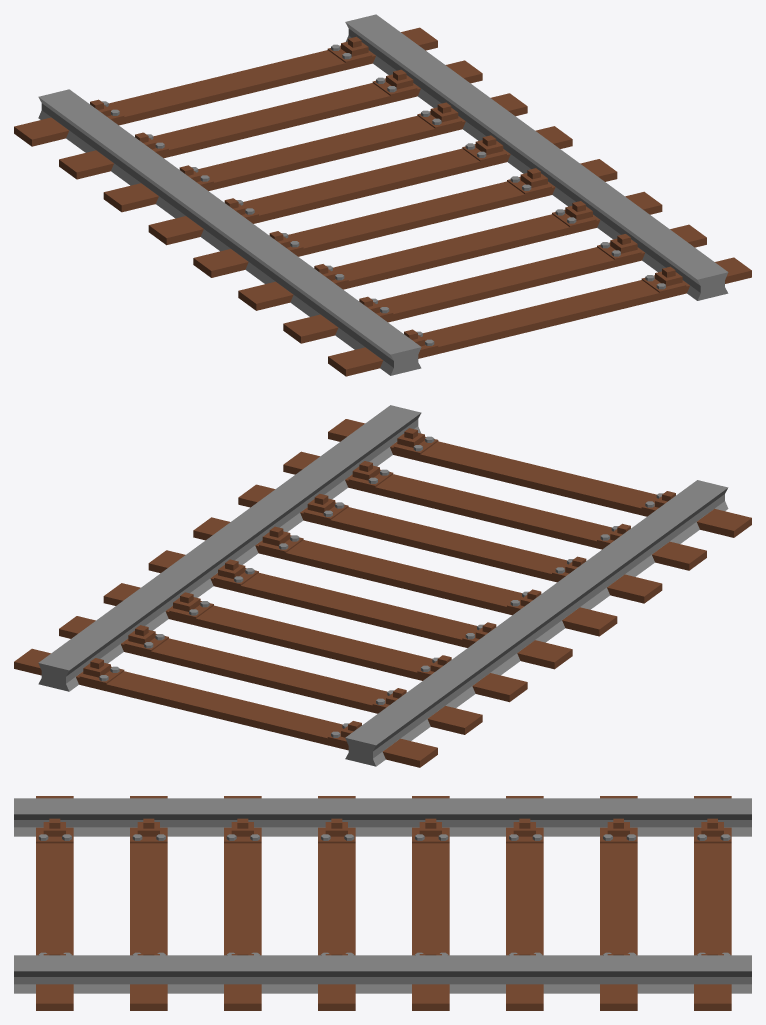
Rendered from Railroad.glb.
The picture shows the model from 3 angles, top to bottom: view 1: azimuth 30°, elevation 25°; view 2: azimuth 150°, elevation 25°; view 3: azimuth 270°, elevation 25°; orthographic projection. The views are drawn at different scales.
Parts seen in each view (by area): view 1: Cylinder.001; view 2: Cylinder.001; view 3: Cylinder.001.
Boxes of the visible parts, <box> form: Cylinder.001: <box>14,14,751,376</box>; Cylinder.001: <box>14,405,751,767</box>; Cylinder.001: <box>14,796,751,1010</box>.
Bounding box in the file's own units: 9.77 × 0.4912 × 14.68.
